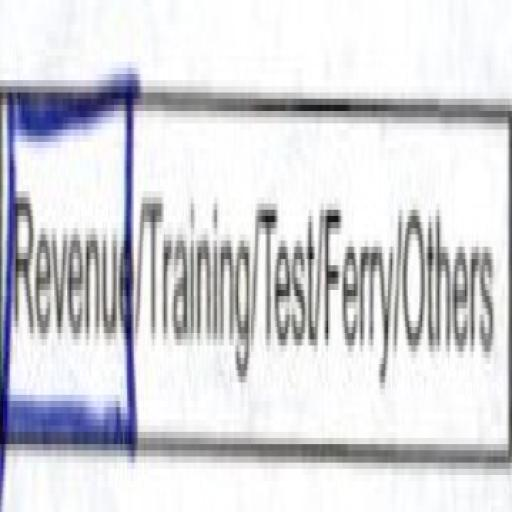check: (0, 24, 141, 512)
